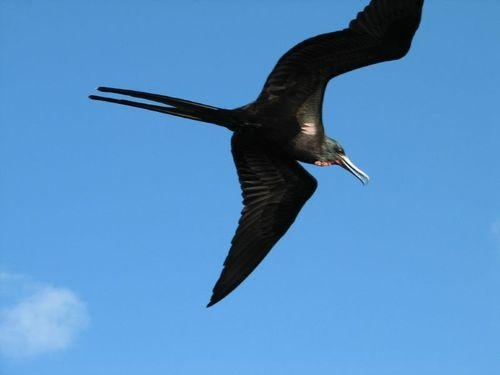bird: (89, 1, 428, 308)
